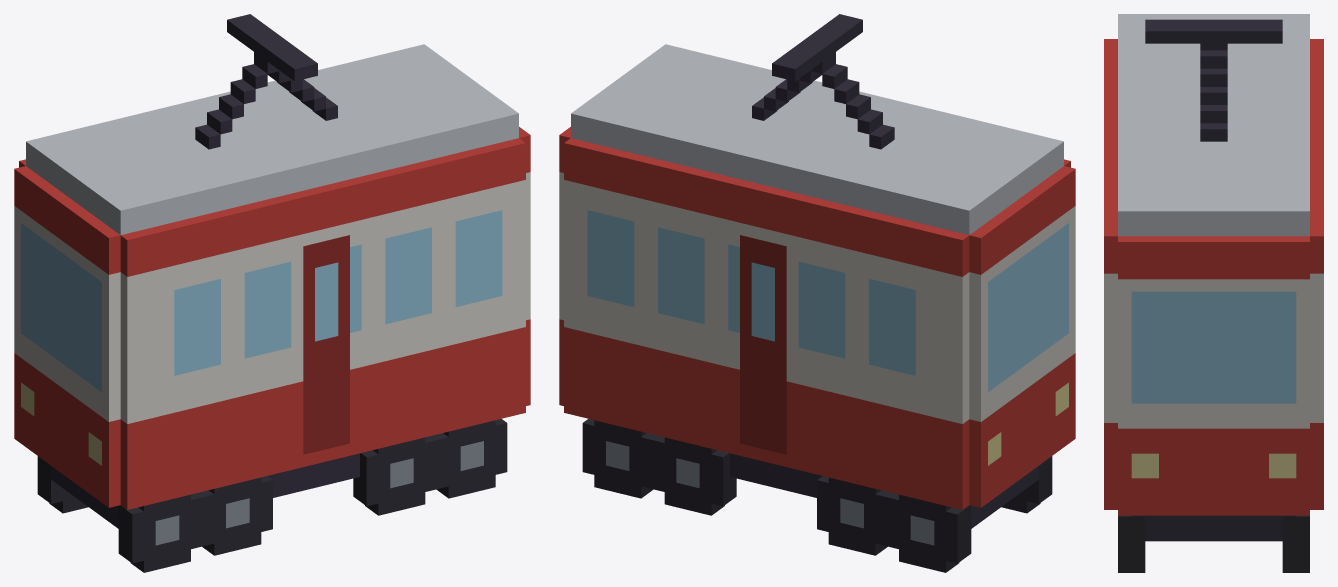
File: railway-red.glb
3 views of the same model, side by side, from view 1: azimuth 30°, elevation 25°; view 2: azimuth 150°, elevation 25°; view 3: azimuth 270°, elevation 25° (orthographic).
Parts seen in each view (by area): view 1: prop; view 2: prop; view 3: prop.
Part boxes in pixels (box(x1,y1,x2,y2)): prop: box(14, 14, 530, 572); prop: box(559, 14, 1075, 572); prop: box(1104, 14, 1323, 572).
Bounding box in the file's own units: 15.57 × 16 × 6.92.
